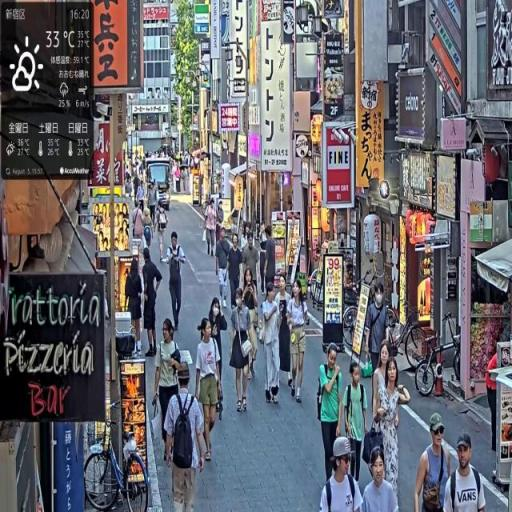person: (162, 358, 209, 512), (414, 410, 455, 512), (155, 320, 185, 459), (196, 316, 223, 462), (317, 346, 344, 490), (444, 433, 488, 512), (320, 434, 364, 512), (229, 289, 255, 416), (344, 363, 369, 488), (260, 280, 283, 409), (288, 277, 311, 403), (208, 296, 229, 421), (360, 446, 399, 512), (143, 246, 164, 359), (167, 232, 188, 341), (126, 259, 147, 356), (227, 232, 245, 315), (217, 228, 232, 311), (243, 232, 262, 297), (205, 198, 220, 261)
